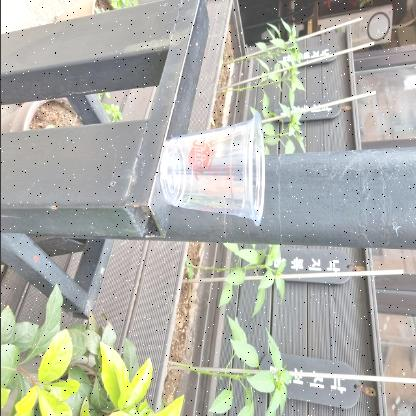Others: (156, 109, 268, 231)
